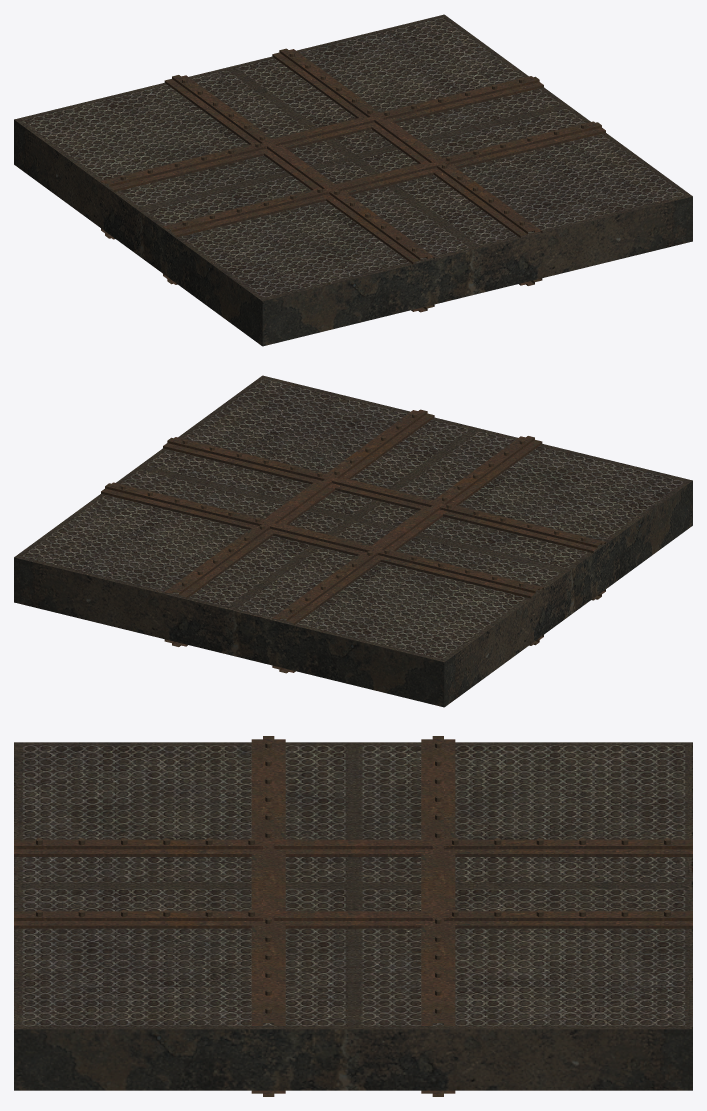
File: floor_ceiling_rtx_1.dae
The picture shows the model from 3 angles, top to bottom: view 1: azimuth 30°, elevation 25°; view 2: azimuth 150°, elevation 25°; view 3: azimuth 270°, elevation 25°; orthographic projection. The views are drawn at different scales.
Visible parts, largest first — view 1: floor_ceiling_rtx_1; view 2: floor_ceiling_rtx_1; view 3: floor_ceiling_rtx_1.
Part boxes in pixels (box(x1,y1,x2,y2)): floor_ceiling_rtx_1: box(14, 14, 692, 346); floor_ceiling_rtx_1: box(14, 375, 692, 707); floor_ceiling_rtx_1: box(14, 736, 692, 1096).
Bounding box in the file's own units: 4 × 4 × 0.5303.
Materials: 3 (3 with a texture image).
